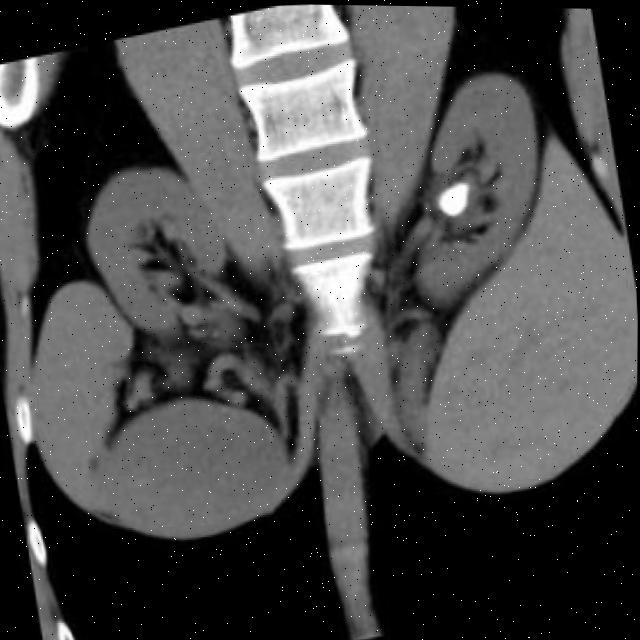Tas_Var: (429, 170, 479, 229)
